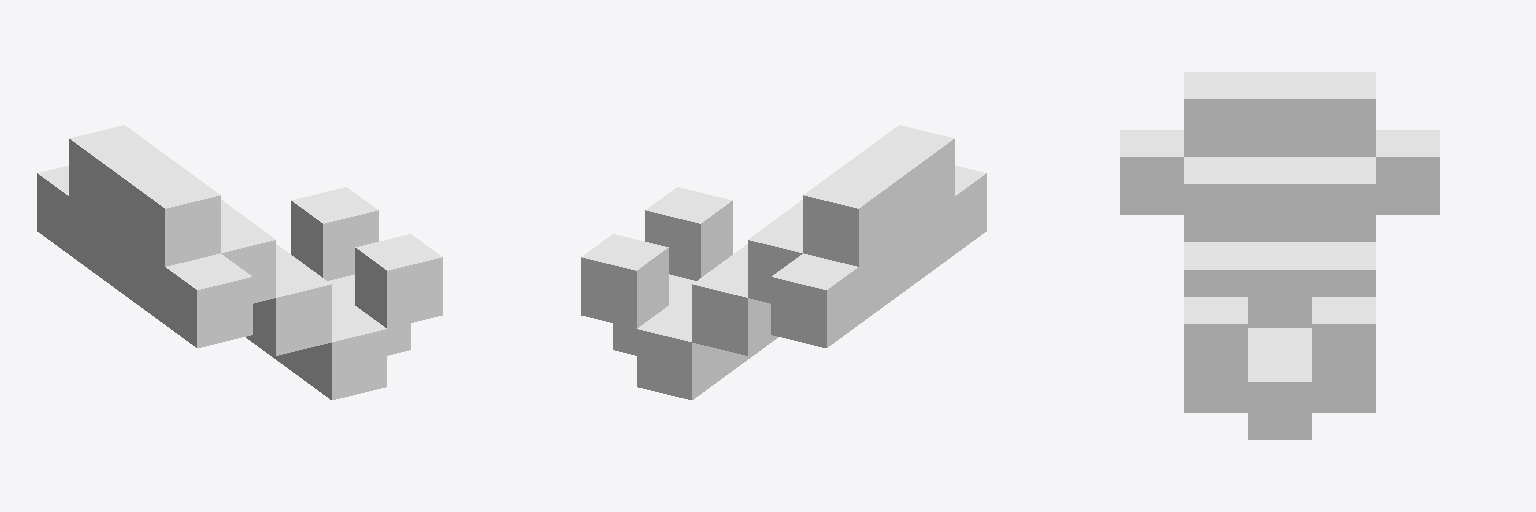
The model's file is shoulder_1.obj.
3 renders of one model, left to right at view 1: azimuth 30°, elevation 25°; view 2: azimuth 150°, elevation 25°; view 3: azimuth 270°, elevation 25°, orthographic.
Visible parts, largest first — view 1: object 1; view 2: object 1; view 3: object 1.
Boxes of the visible parts, x1=… form: object 1: x1=37, y1=125, x2=442, y2=399; object 1: x1=581, y1=125, x2=986, y2=399; object 1: x1=1120, y1=72, x2=1439, y2=439.
Bounding box in the file's own units: 0.5 × 0.4 × 0.5.